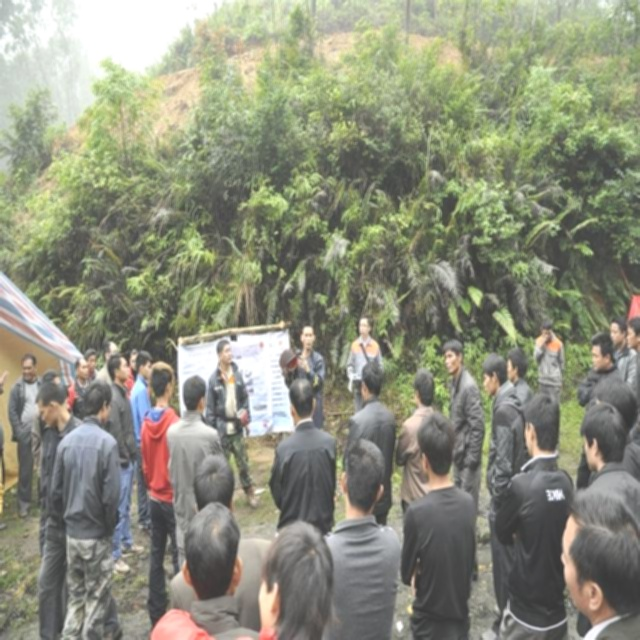Sin_Casco_Mascarrilla: (286, 379, 315, 423), (444, 339, 463, 376), (301, 325, 314, 351)
